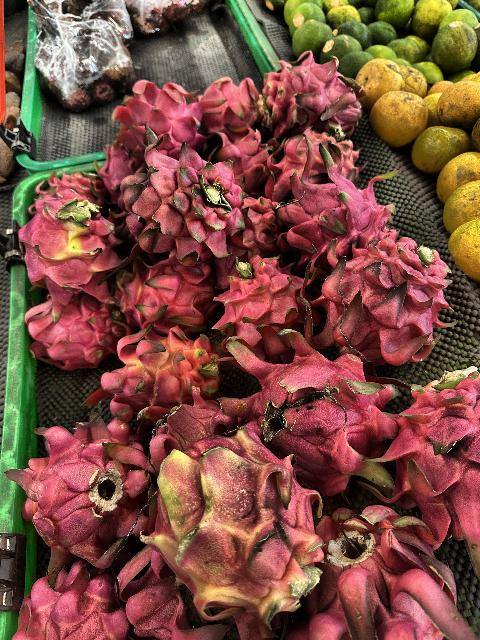buah-naga-belum-matang: (144, 434, 332, 622), (98, 318, 228, 416), (17, 198, 115, 298)
buah-naga-matang: (228, 326, 394, 484), (304, 508, 472, 640), (312, 225, 458, 367), (10, 410, 144, 558), (382, 363, 480, 541), (118, 142, 246, 262), (272, 145, 394, 249), (104, 550, 228, 640), (8, 562, 132, 640), (111, 74, 208, 170), (219, 252, 308, 352), (111, 258, 229, 330), (256, 62, 374, 124), (19, 298, 118, 368), (270, 123, 370, 191), (194, 74, 264, 132), (31, 170, 103, 208), (218, 131, 270, 183)
